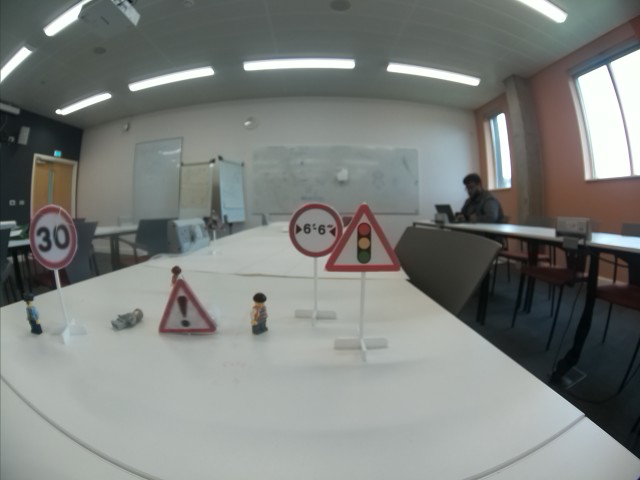30mph: (28, 205, 78, 270)
6ft6: (290, 203, 342, 258)
Lego Man: (22, 291, 45, 337), (249, 289, 272, 334), (110, 307, 144, 331), (170, 264, 182, 288)
Traffic lights: (325, 200, 400, 272)
Warning: (158, 279, 217, 334)
